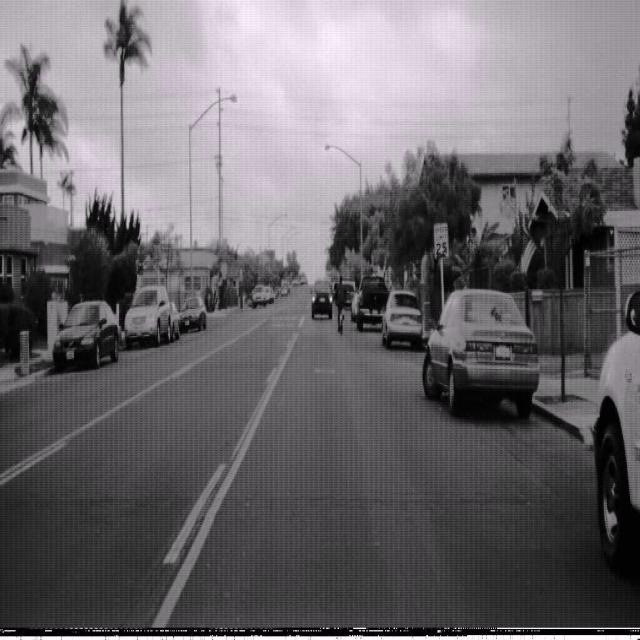speedLimit25: (432, 220, 450, 261)
